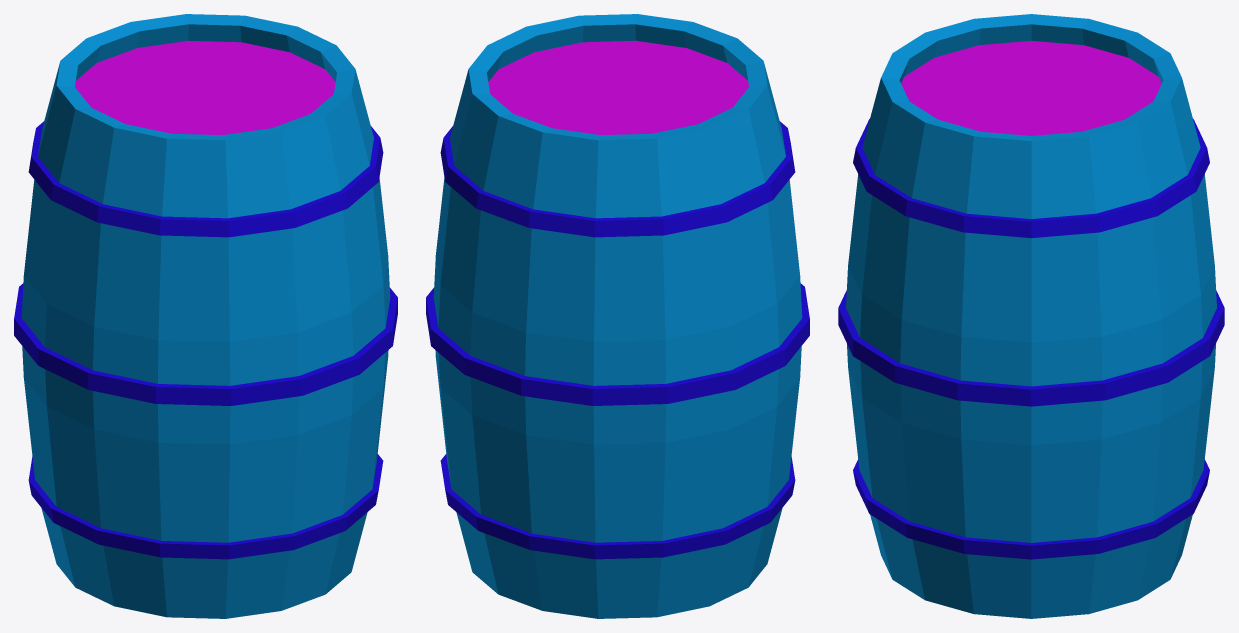
File: Barrel_v1_3_low_1.fbx
3 renders of one model, left to right at view 1: azimuth 30°, elevation 25°; view 2: azimuth 150°, elevation 25°; view 3: azimuth 270°, elevation 25°, orthographic.
Visible parts, largest first — view 1: Cube; view 2: Cube; view 3: Cube.
Part boxes in pixels (x1=…): Cube: x1=14, y1=14, x2=397, y2=618; Cube: x1=426, y1=14, x2=809, y2=618; Cube: x1=838, y1=14, x2=1224, y2=618.
Bounding box in the file's own units: 196 × 267 × 196.
